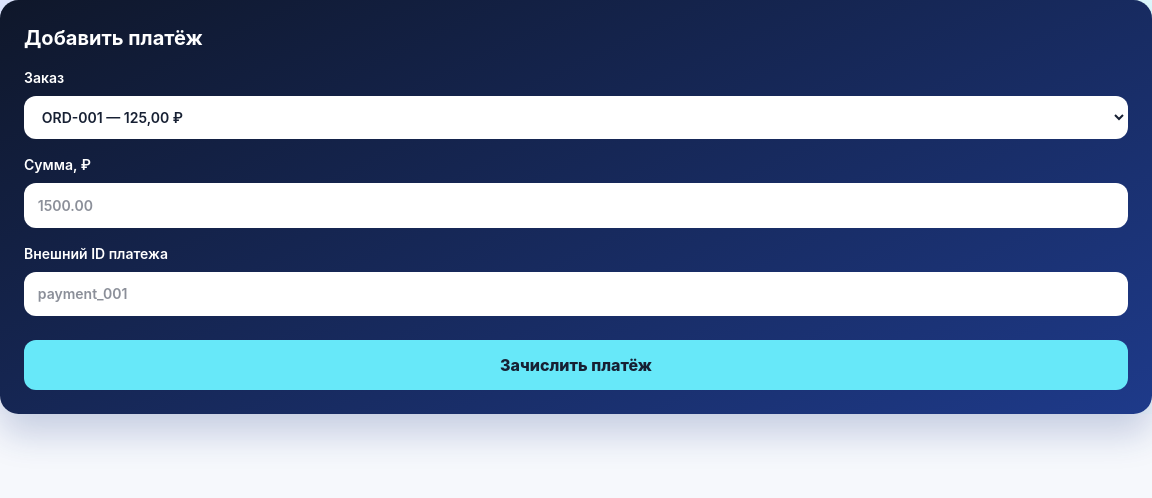
PaymentForm › does not send a zero-value payment
Type "0" into the number field labelled "Сумма, ₽".
click(576, 206); type("0")  # box 24,183 -> 1128,228
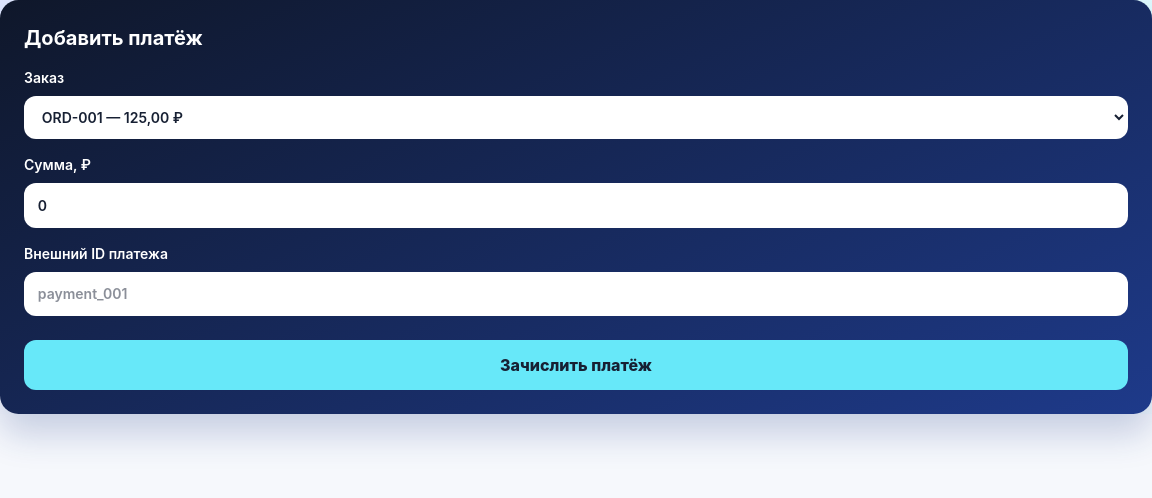
Type "payment-1" into the field labelled "Внешний ID платежа".
click(576, 294); type("payment-1")  # box 24,272 -> 1128,316
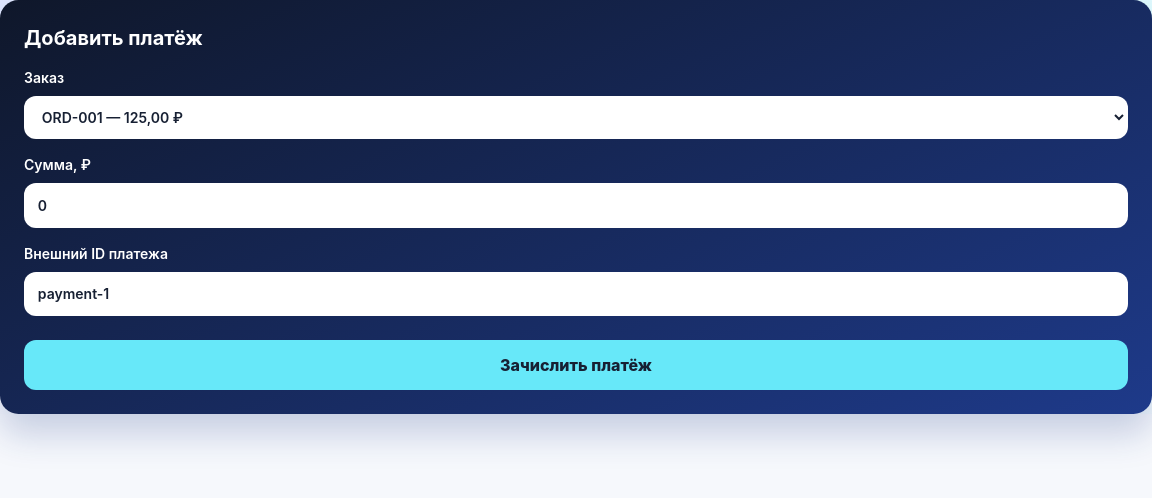
Submit the form "Зачислить платёж"
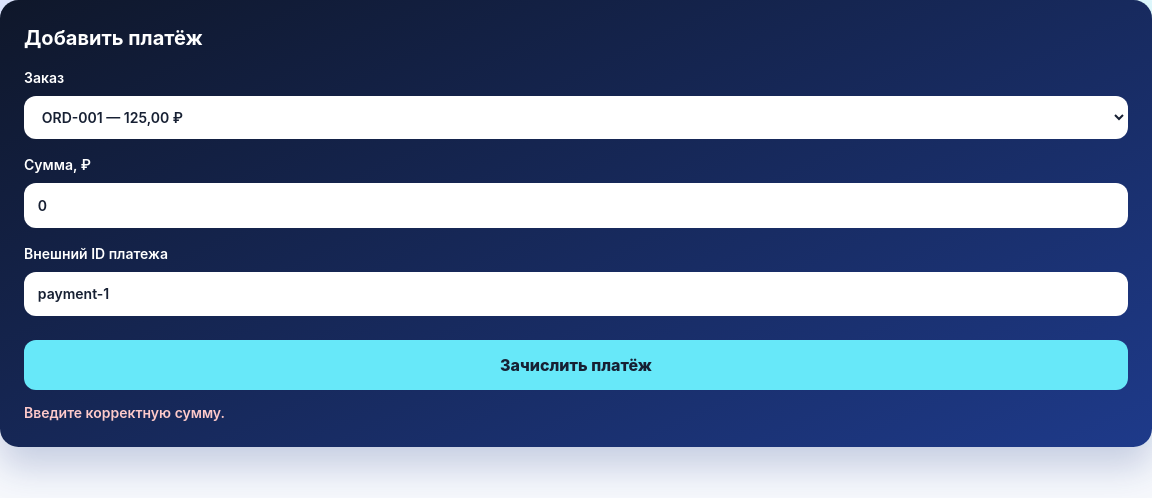
expect the message reads "Введите корректную сумму.": met, box 24,404 -> 225,421
